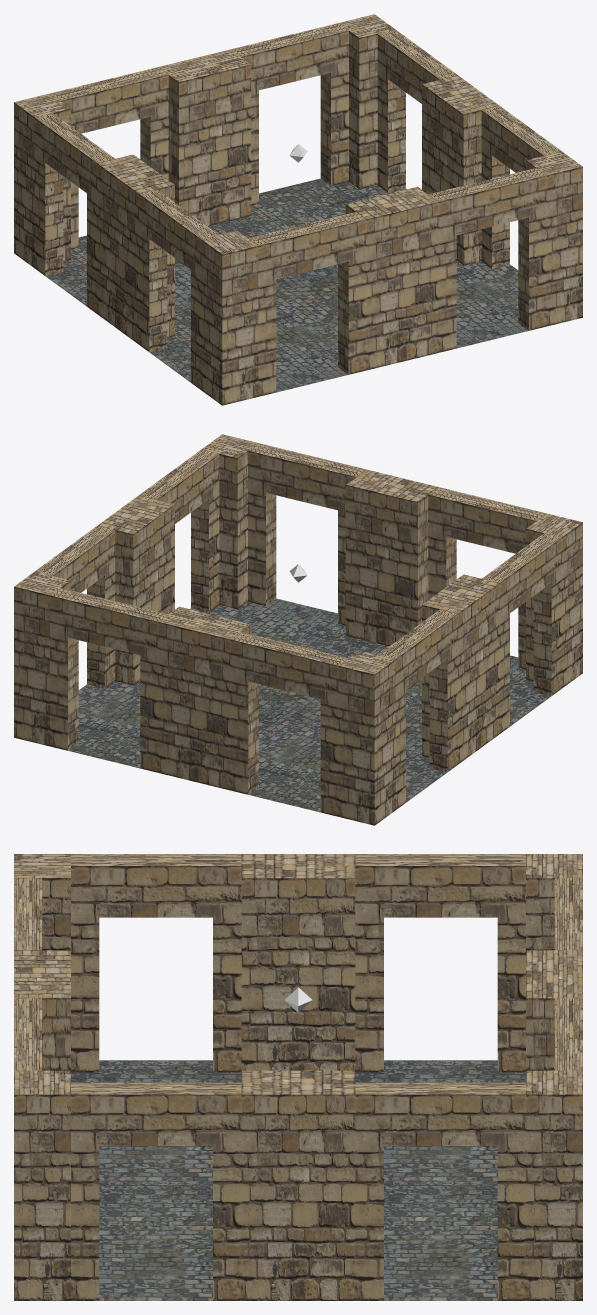
The model's file is 1_8doorDouble.fbx.
The picture shows the model from 3 angles, top to bottom: view 1: azimuth 30°, elevation 25°; view 2: azimuth 150°, elevation 25°; view 3: azimuth 270°, elevation 25°; orthographic projection. The views are drawn at different scales.
Parts seen in each view (by area): view 1: Cube_4, Plane; view 2: Cube_4, Plane; view 3: Cube_4, Plane.
Part boxes in pixels (x1,y1,x2,y2): Cube_4: [14, 14, 582, 405]; Plane: [45, 178, 528, 392]; Cube_4: [14, 434, 582, 825]; Plane: [68, 598, 551, 812]; Cube_4: [14, 854, 582, 1300]; Plane: [71, 1060, 525, 1300].
Bounding box in the file's own units: 20 × 8 × 20.
Materials: 3 (3 with a texture image).
